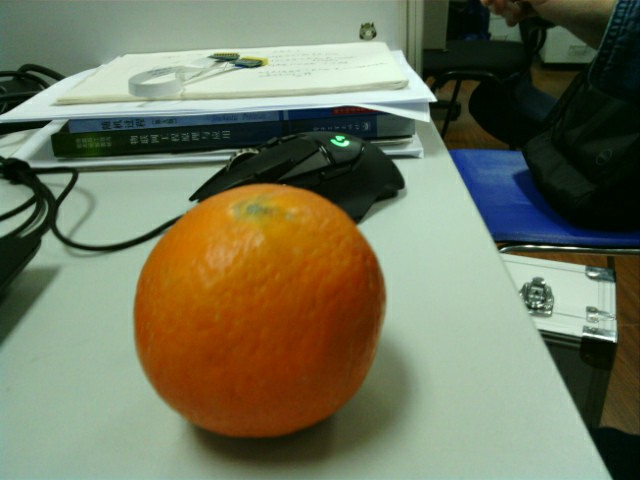normal_orange: (134, 182, 383, 438)
